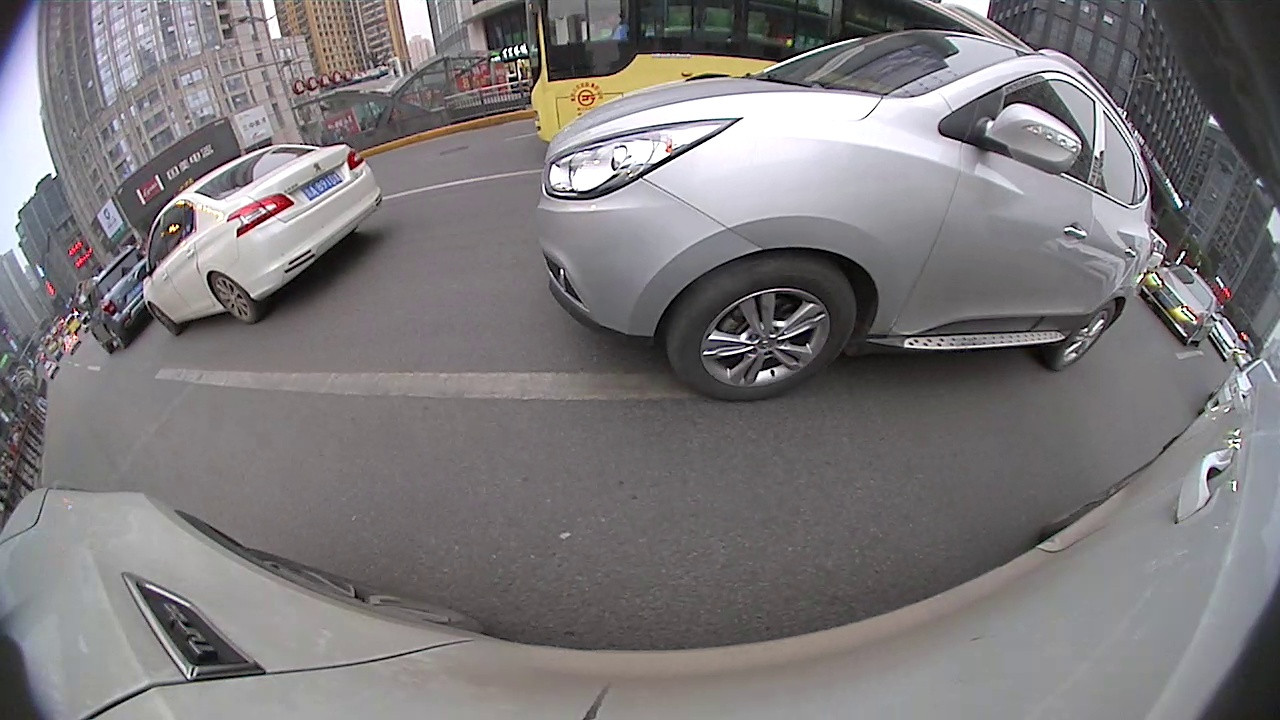bus: (519, 1, 1039, 146)
car: (531, 27, 1156, 403), (139, 141, 386, 337), (82, 246, 158, 353)
front: (666, 256, 854, 404)
rear: (1049, 299, 1118, 374), (208, 272, 260, 326)
